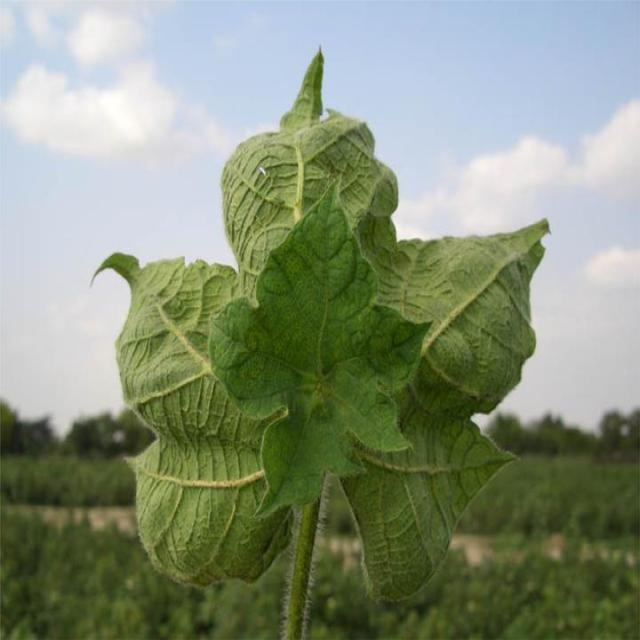Leaf Curl Virus: (156, 199, 484, 581)
